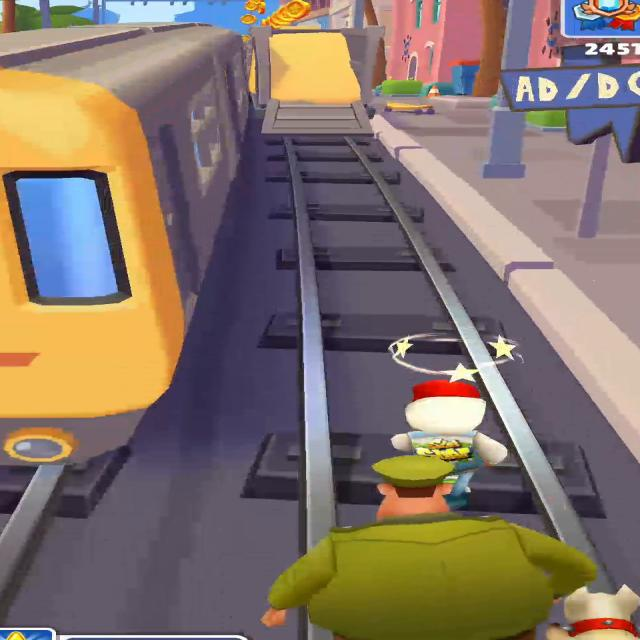climber: (263, 31, 368, 134)
police: (262, 455, 597, 640)
train: (0, 23, 248, 464)
